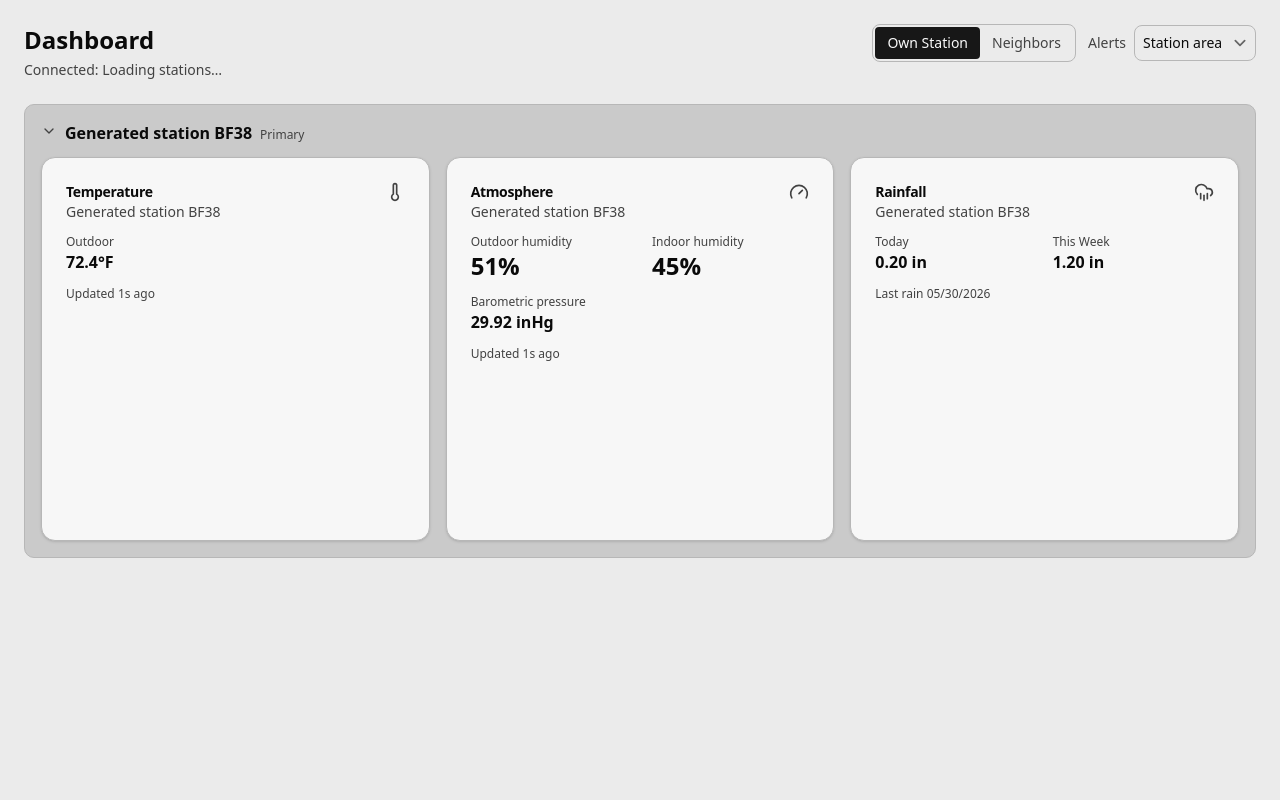
Test case: DashboardPage › shows per-station Ambient neighbor count and opens the contributor list
Click the button with test id "dashboard-source-neighbors-button": (1026, 43) [980,27,1073,59]
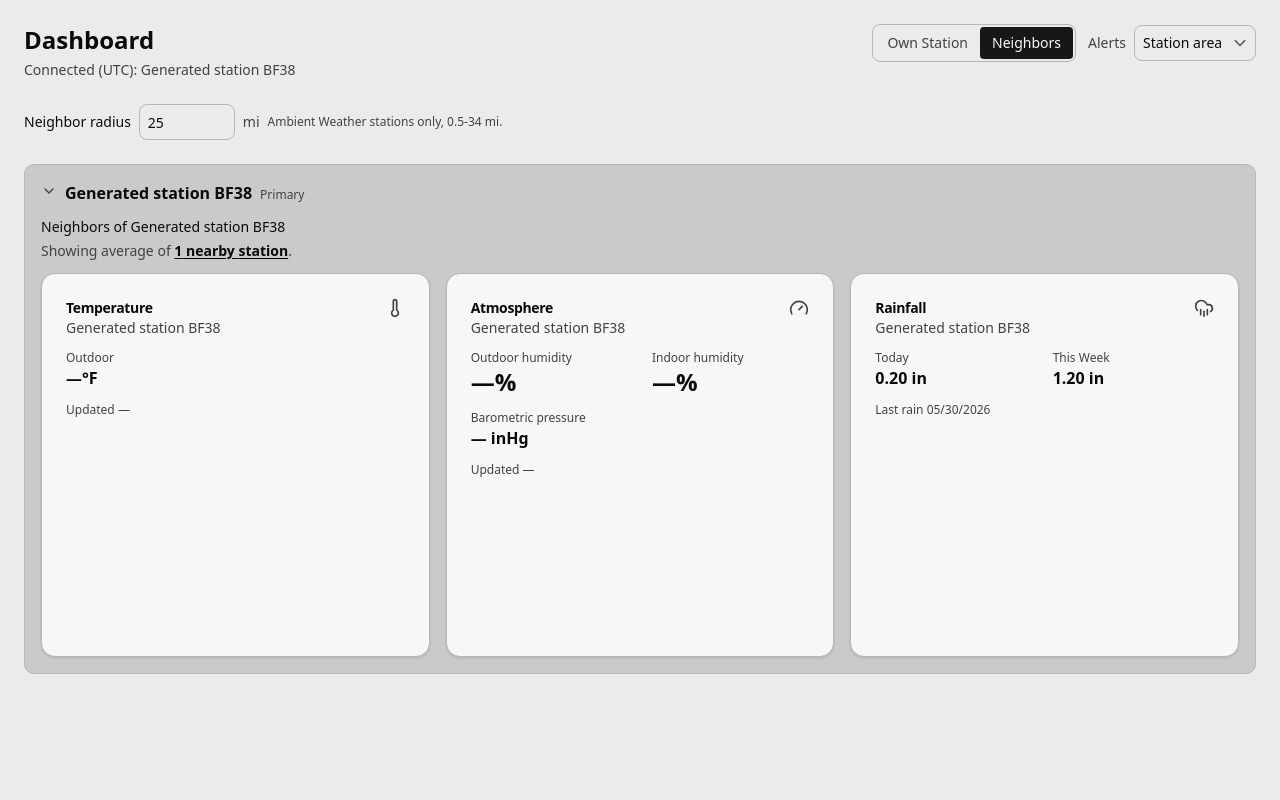
Now the button with test id "dashboard-neighbors-count-button" reads "1 nearby station"
Click the button with test id "dashboard-neighbors-count-button": (231, 251) [174,241,288,261]
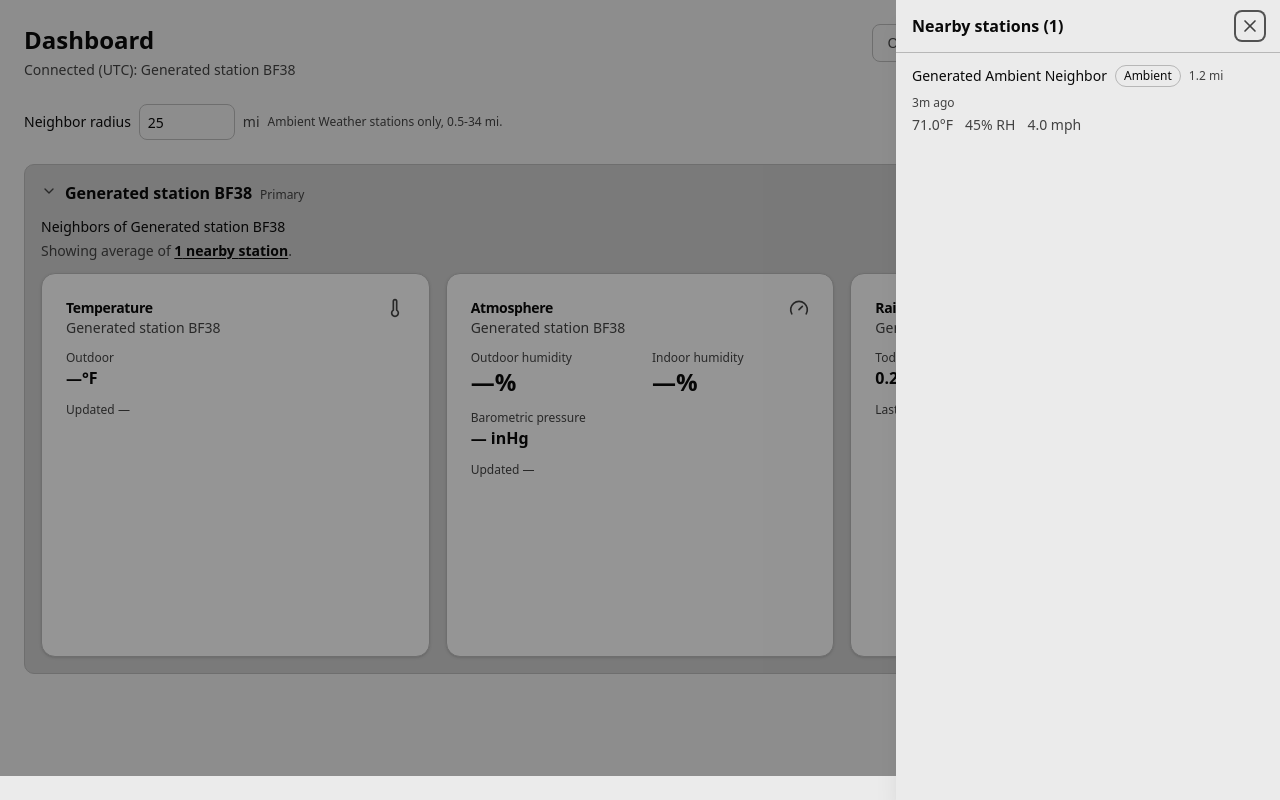
Now the dialog with test id "neighbors-station-drawer" shows "Generated Ambient Neighbor", box [912,66,1107,85]
